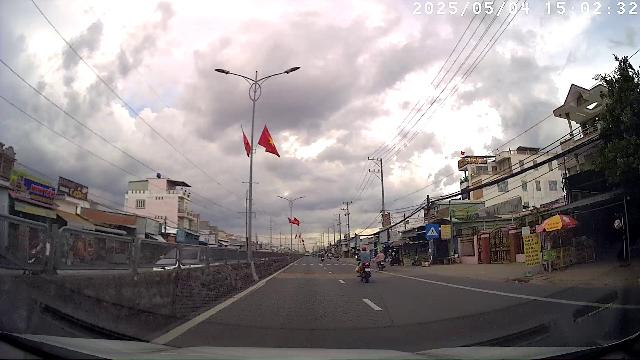423a-duong-nguoi-di-bo-sang-ngang-1: (425, 224, 439, 238)
